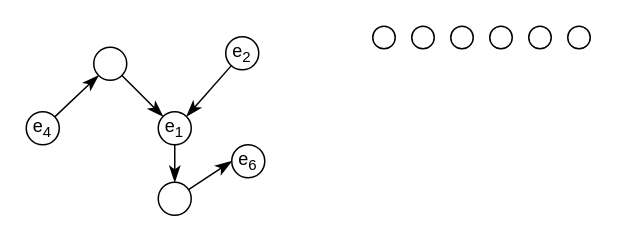
This 617x242 diagram has some shape labels left out. The shapes that lost their labels are listed below. From the top down, each one's centre as x and y in pixels, then its label:
At (109,63): "e 3".
At (174,198): "e 5".
